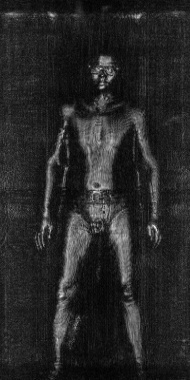gun: (66, 310, 80, 347)
